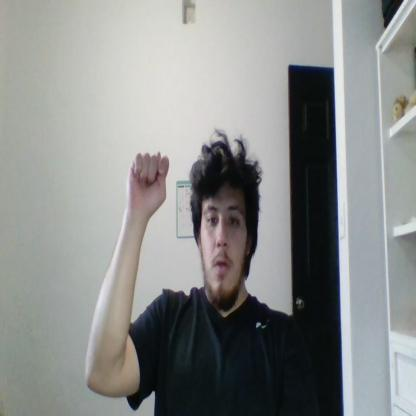T: (128, 150, 169, 216)
